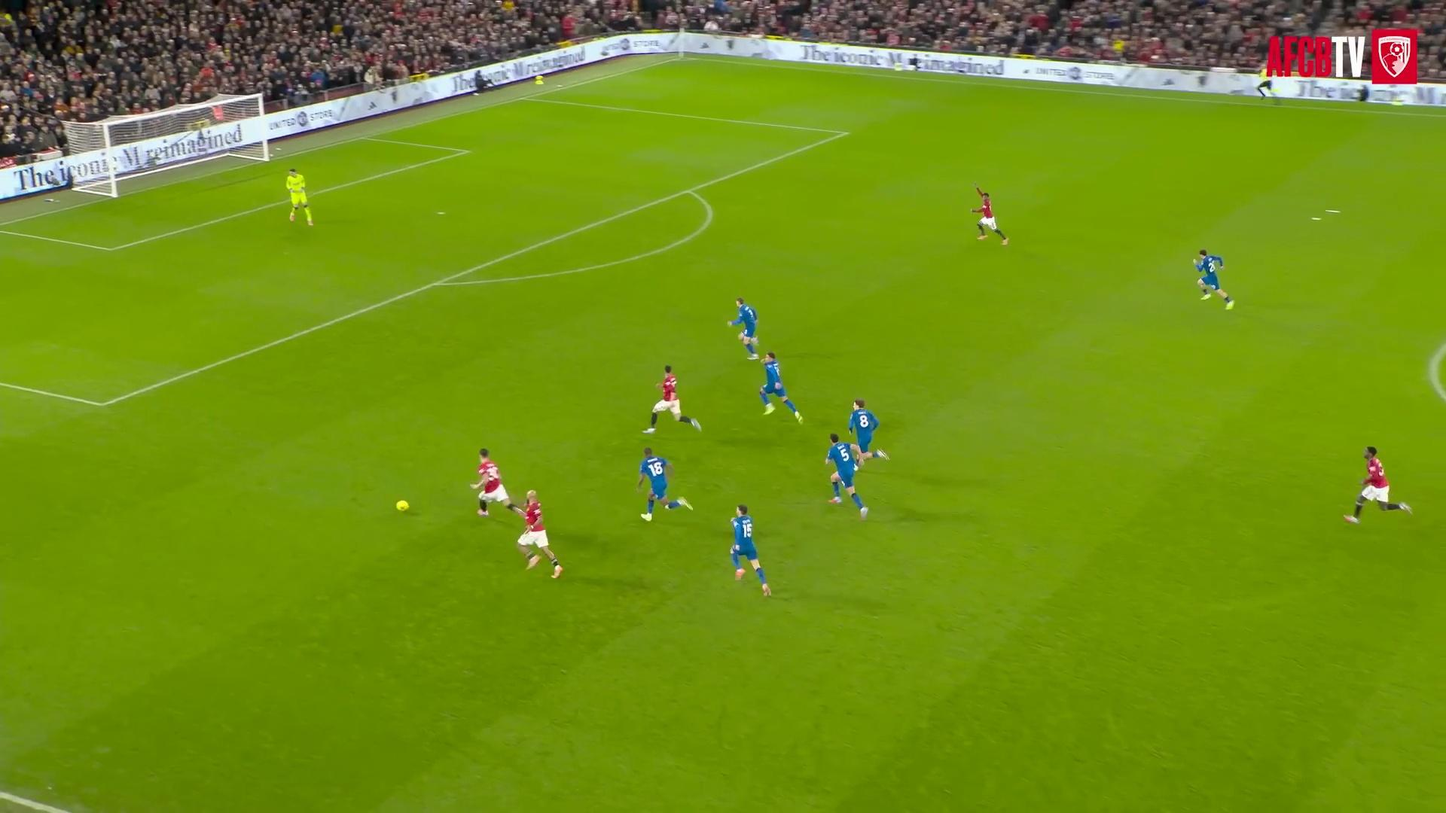football: (392, 491, 417, 520)
player: (1344, 446, 1411, 522), (517, 490, 563, 578), (644, 365, 700, 432), (825, 433, 868, 518), (471, 449, 524, 517), (731, 504, 770, 595), (759, 352, 802, 422), (848, 398, 888, 467), (638, 448, 671, 521), (1194, 249, 1234, 309), (970, 184, 1008, 244), (728, 297, 758, 359), (286, 169, 313, 224)
referee: (1256, 65, 1280, 103)
